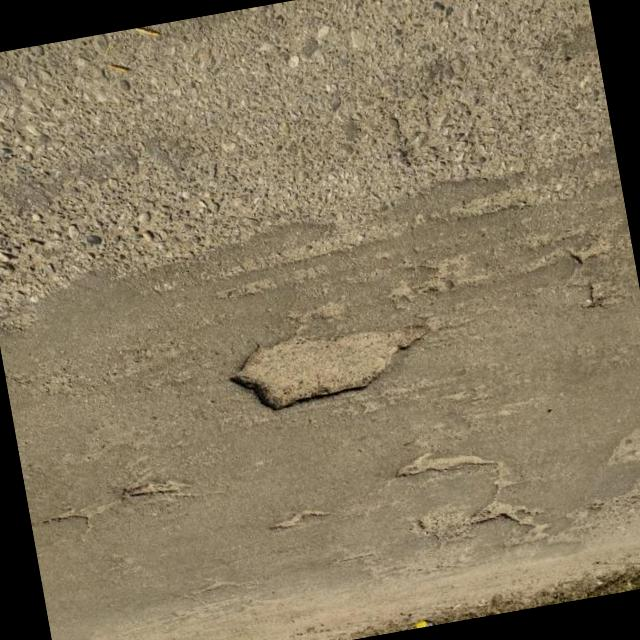pothole: (220, 314, 437, 424), (465, 492, 546, 542), (390, 448, 501, 484)
